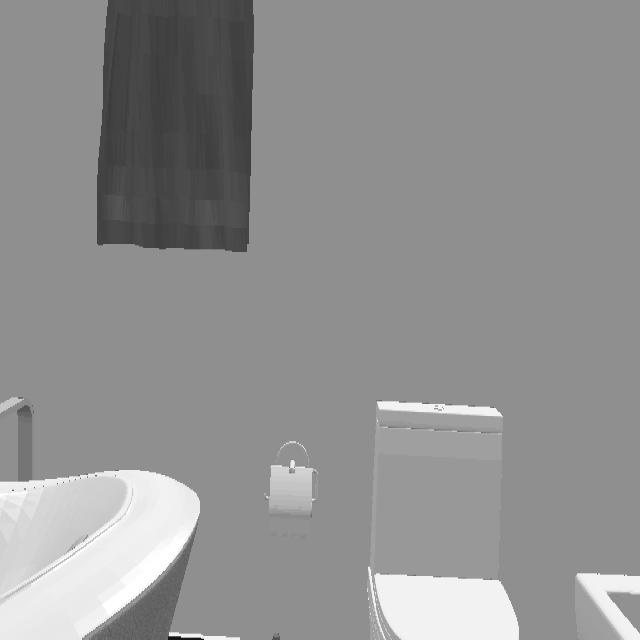bathtube: (0, 470, 201, 639)
toilet: (368, 402, 520, 640)
washbasin: (574, 574, 640, 640)
